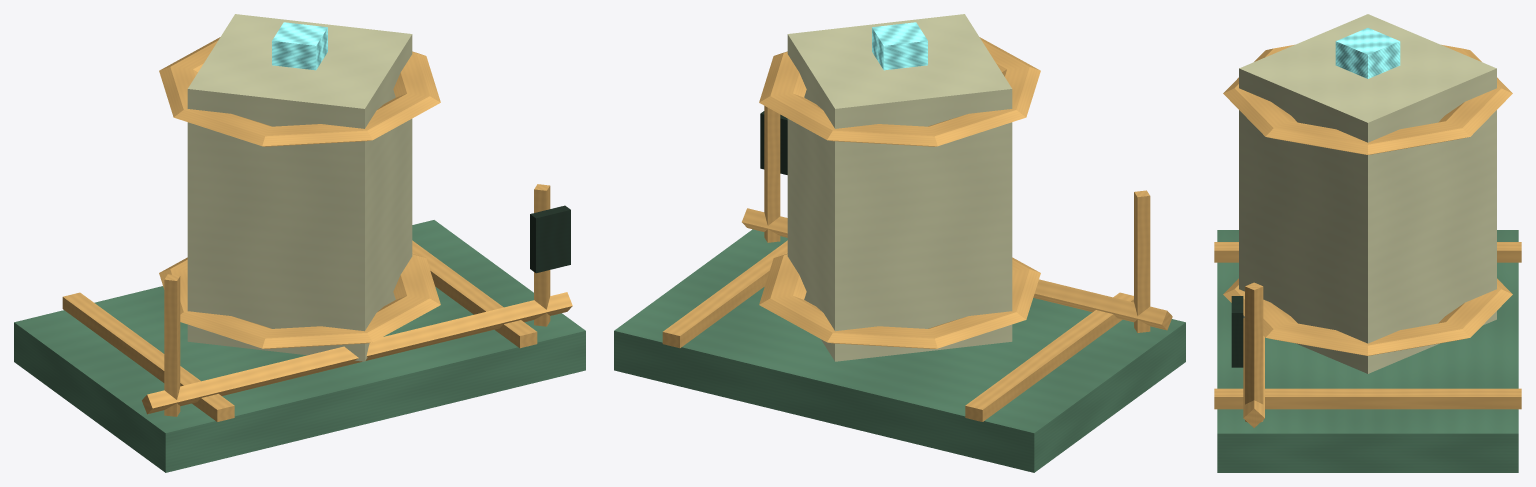
File: atlas100-s001-a02.lod2.glb
The picture shows the model from 3 angles, left to right: view 1: azimuth 30°, elevation 25°; view 2: azimuth 150°, elevation 25°; view 3: azimuth 270°, elevation 25°; orthographic projection.
Parts seen in each view (by area): view 1: atlas100-s001-a02:part-003, atlas100-s001-a02:part-000, atlas100-s001-a02:part-005, atlas100-s001-a02:part-011, atlas100-s001-a02:part-004, atlas100-s001-a02:part-001, atlas100-s001-a02:part-002, atlas100-s001-a02:part-010, atlas100-s001-a02:part-006, atlas100-s001-a02:part-007, atlas100-s001-a02:part-009; view 2: atlas100-s001-a02:part-003, atlas100-s001-a02:part-000, atlas100-s001-a02:part-005, atlas100-s001-a02:part-004, atlas100-s001-a02:part-001, atlas100-s001-a02:part-011, atlas100-s001-a02:part-002, atlas100-s001-a02:part-006, atlas100-s001-a02:part-007, atlas100-s001-a02:part-009, atlas100-s001-a02:part-010; view 3: atlas100-s001-a02:part-003, atlas100-s001-a02:part-000, atlas100-s001-a02:part-005, atlas100-s001-a02:part-002, atlas100-s001-a02:part-004, atlas100-s001-a02:part-006, atlas100-s001-a02:part-009, atlas100-s001-a02:part-001, atlas100-s001-a02:part-010, atlas100-s001-a02:part-011.
Boxes of the visible parts, left/top/right/bottom form: atlas100-s001-a02:part-003: left=187, top=14, right=412, bottom=361; atlas100-s001-a02:part-000: left=14, top=220, right=585, bottom=472; atlas100-s001-a02:part-005: left=159, top=37, right=440, bottom=146; atlas100-s001-a02:part-011: left=142, top=292, right=572, bottom=414; atlas100-s001-a02:part-004: left=159, top=253, right=440, bottom=348; atlas100-s001-a02:part-001: left=62, top=292, right=234, bottom=421; atlas100-s001-a02:part-002: left=412, top=240, right=537, bottom=348; atlas100-s001-a02:part-010: left=530, top=205, right=570, bottom=273; atlas100-s001-a02:part-006: left=272, top=22, right=327, bottom=70; atlas100-s001-a02:part-007: left=164, top=274, right=180, bottom=416; atlas100-s001-a02:part-009: left=534, top=184, right=550, bottom=326; atlas100-s001-a02:part-003: left=787, top=14, right=1012, bottom=361; atlas100-s001-a02:part-000: left=614, top=229, right=1185, bottom=472; atlas100-s001-a02:part-005: left=759, top=37, right=1040, bottom=146; atlas100-s001-a02:part-004: left=759, top=253, right=1040, bottom=348; atlas100-s001-a02:part-001: left=965, top=292, right=1133, bottom=421; atlas100-s001-a02:part-011: left=742, top=208, right=1172, bottom=330; atlas100-s001-a02:part-002: left=662, top=240, right=787, bottom=348; atlas100-s001-a02:part-006: left=872, top=22, right=927, bottom=70; atlas100-s001-a02:part-007: left=1134, top=190, right=1150, bottom=332; atlas100-s001-a02:part-009: left=764, top=106, right=780, bottom=242; atlas100-s001-a02:part-010: left=760, top=111, right=787, bottom=174; atlas100-s001-a02:part-003: left=1239, top=14, right=1496, bottom=373; atlas100-s001-a02:part-000: left=1217, top=230, right=1518, bottom=472; atlas100-s001-a02:part-005: left=1223, top=44, right=1512, bottom=154; atlas100-s001-a02:part-002: left=1214, top=388, right=1521, bottom=409; atlas100-s001-a02:part-004: left=1223, top=278, right=1512, bottom=355; atlas100-s001-a02:part-006: left=1335, top=28, right=1400, bottom=78; atlas100-s001-a02:part-009: left=1245, top=282, right=1263, bottom=422; atlas100-s001-a02:part-001: left=1214, top=242, right=1521, bottom=262; atlas100-s001-a02:part-010: left=1231, top=296, right=1243, bottom=367; atlas100-s001-a02:part-011: left=1243, top=317, right=1264, bottom=427.
Size of the model in its own units: 2.88 by 2.18 by 1.84.
Materials: 5 (5 with a texture image).
